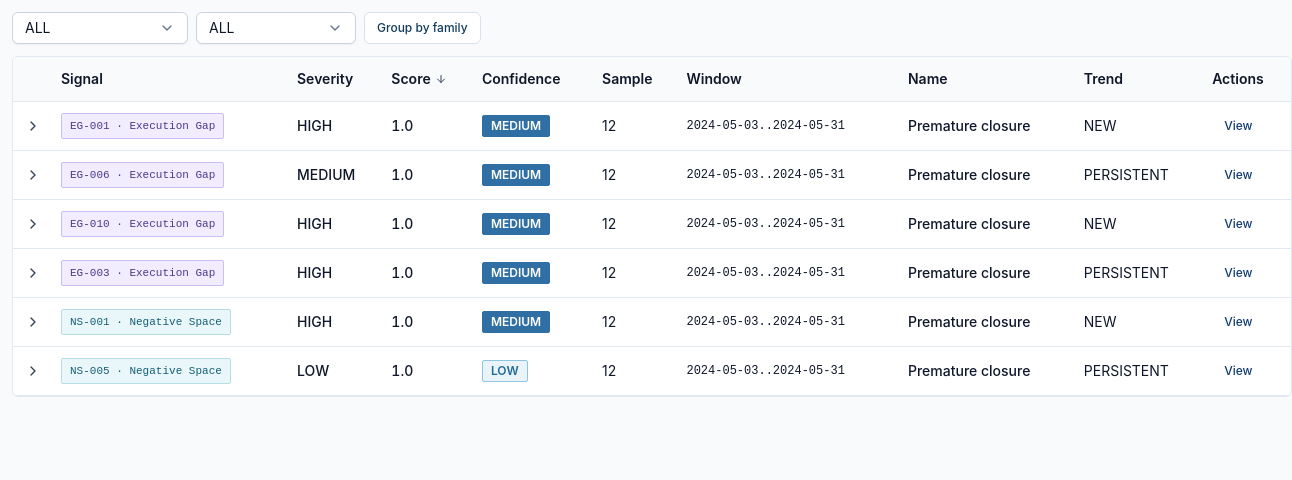
Test case: FindingsTable › group toggle inserts family group rows
The image size is (1292, 480).
Click the button "Group by family": (422, 28) [364, 12, 481, 44]
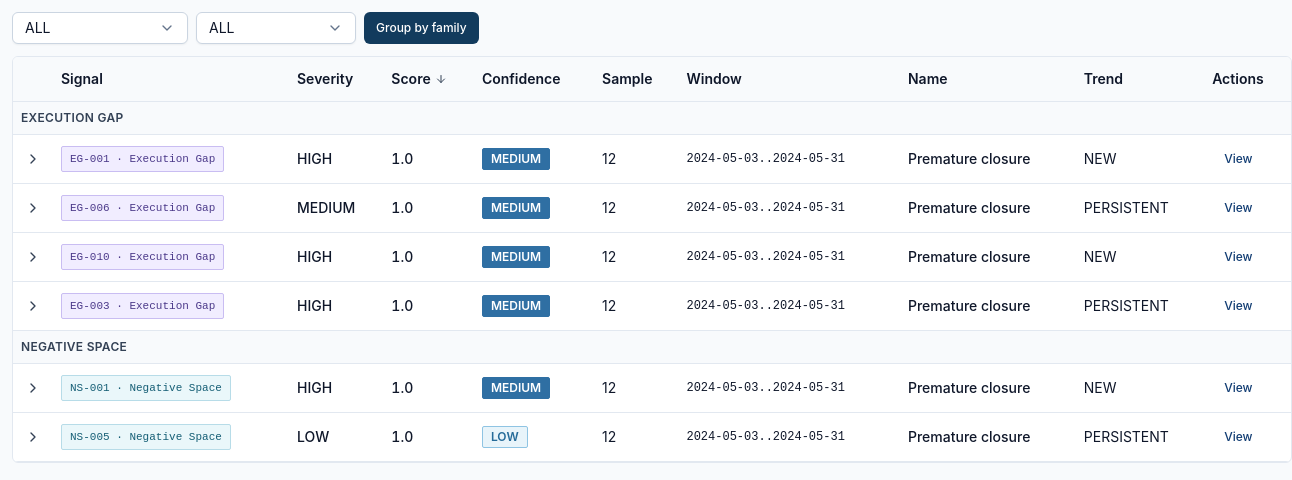
Check: the text "execution gap" is shown, box [13, 102, 1291, 134]
